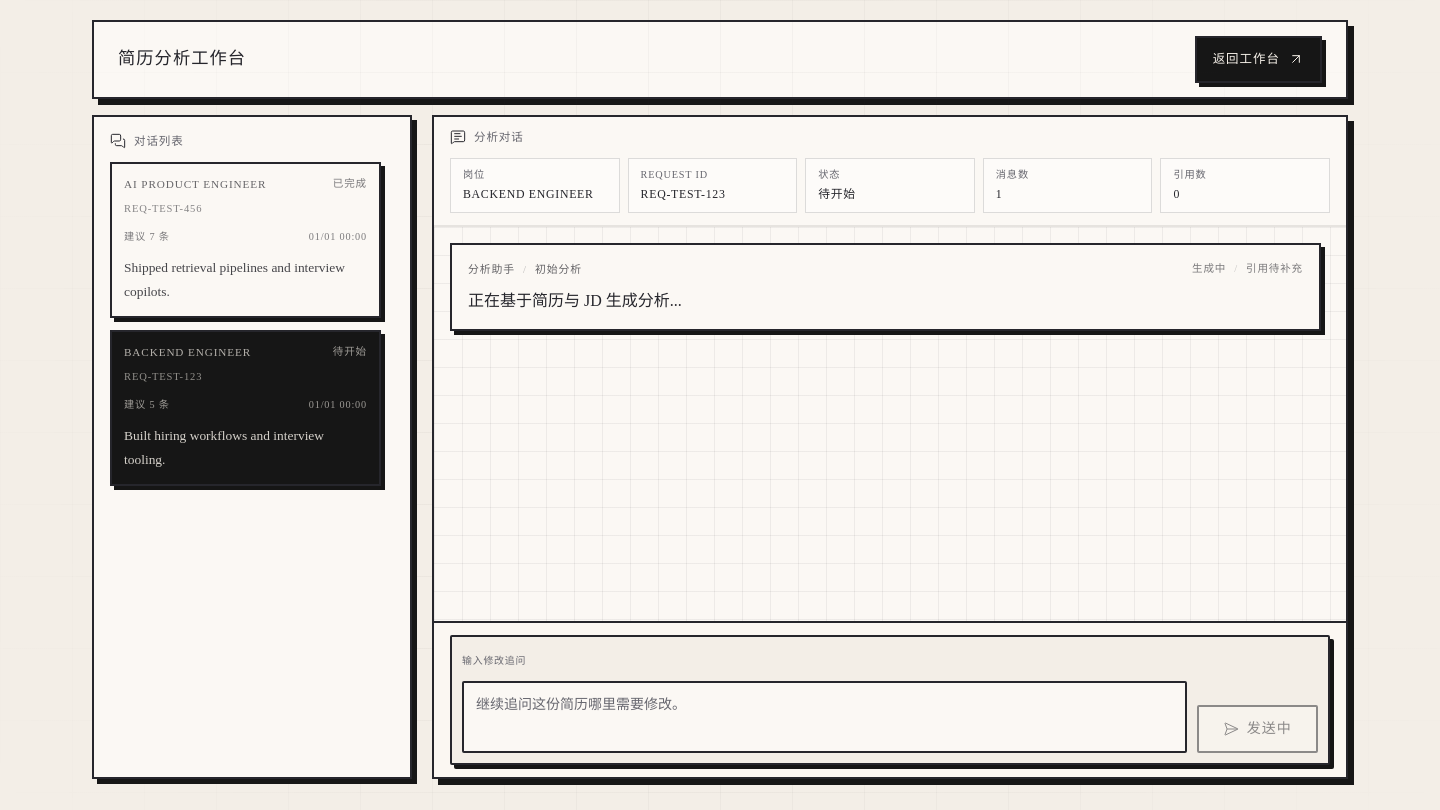
Test: ResultsWorkspace › does not leak an in-flight stream into a newly selected pack
Click the button "AI Product Engineer". click: (195, 184)
box: [110,162,381,318]
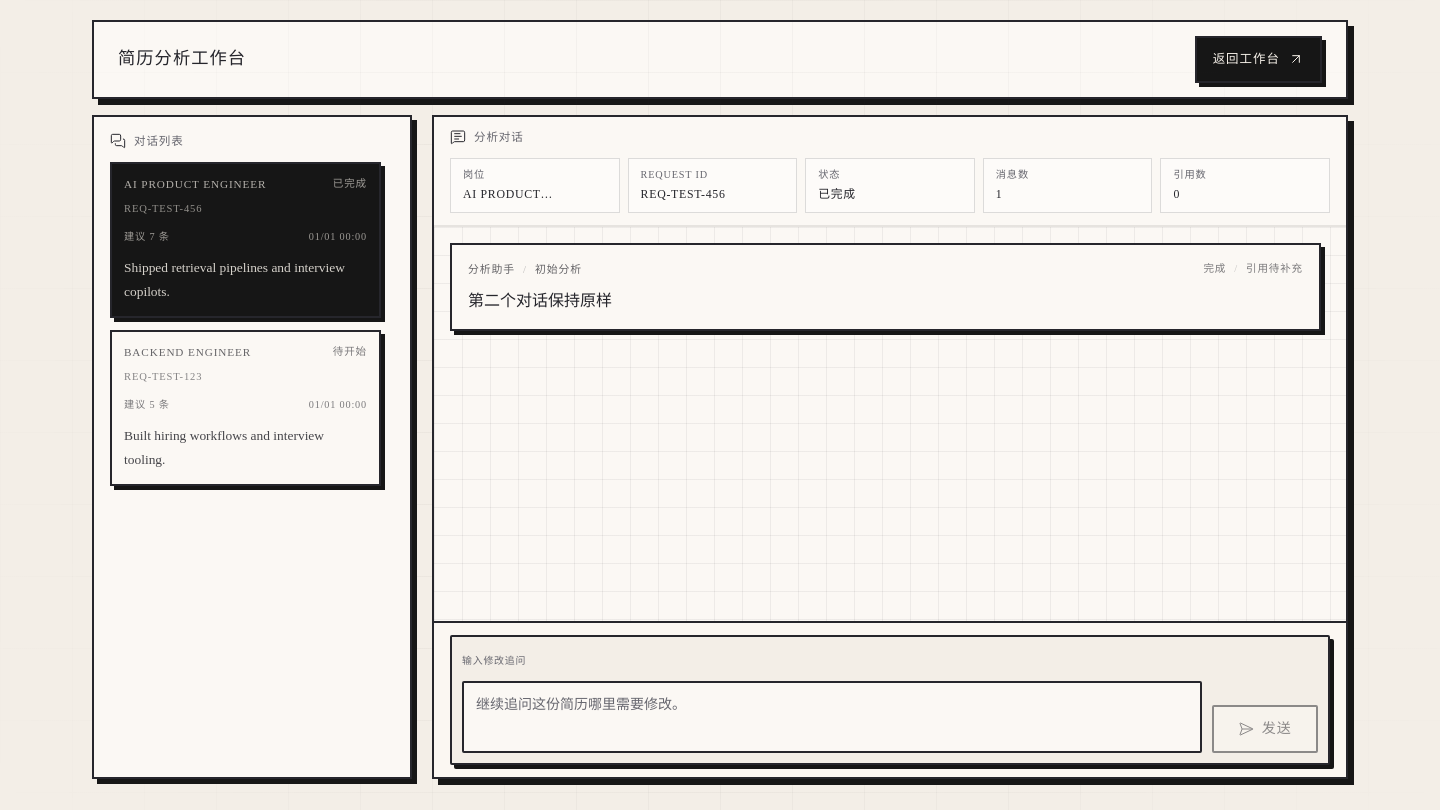
expect the text "第二个对话保持原样" is shown: met, box [468,292,612,309]
